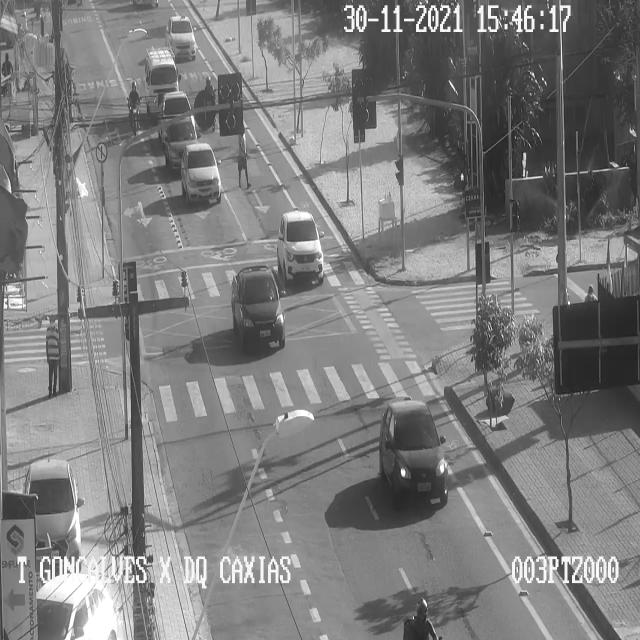Car: (379, 400, 447, 503), (24, 459, 80, 569), (36, 573, 116, 639), (232, 266, 284, 346), (277, 210, 323, 282), (180, 142, 220, 202), (144, 49, 178, 112), (158, 90, 194, 140), (165, 118, 197, 169), (165, 15, 195, 59)
Motorcycle: (402, 597, 442, 639), (127, 81, 140, 135), (204, 76, 216, 130)
